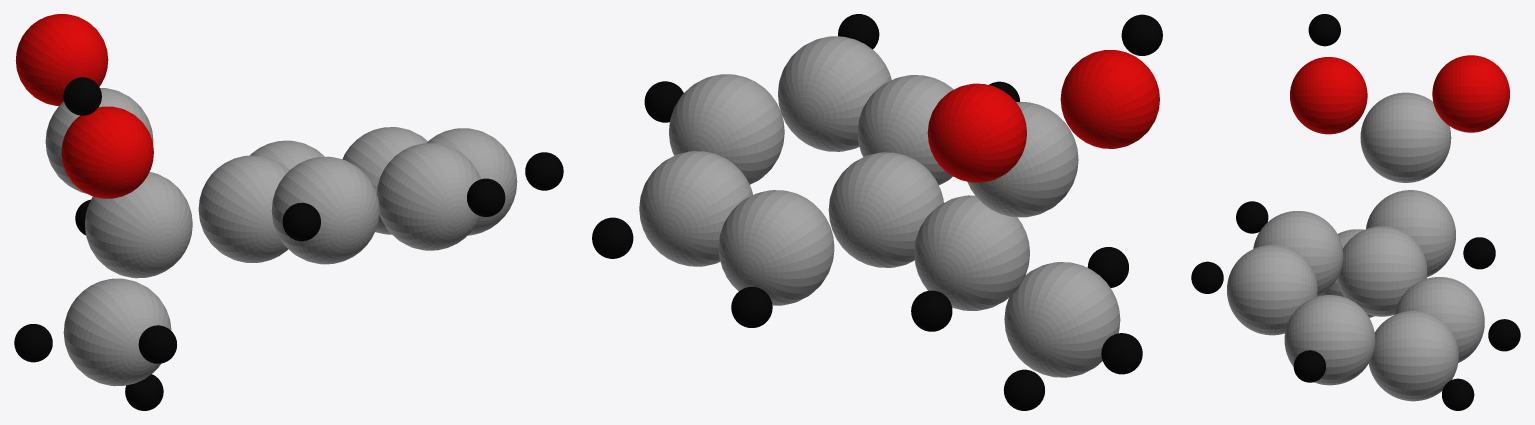
Rendered from Meloxicam.glb.
3 renders of one model, left to right at view 1: azimuth 30°, elevation 25°; view 2: azimuth 150°, elevation 25°; view 3: azimuth 270°, elevation 25°, orthographic. The views are drawn at different scales.
Parts seen in each view (by area): view 1: world; view 2: world; view 3: world.
Boxes of the visible parts, x1,y1,x2,y2 form: world: (14,14,563,410); world: (592,14,1162,410); world: (1191,14,1520,410).
Bounding box in the file's own units: 7.51 × 5.27 × 5.08.
